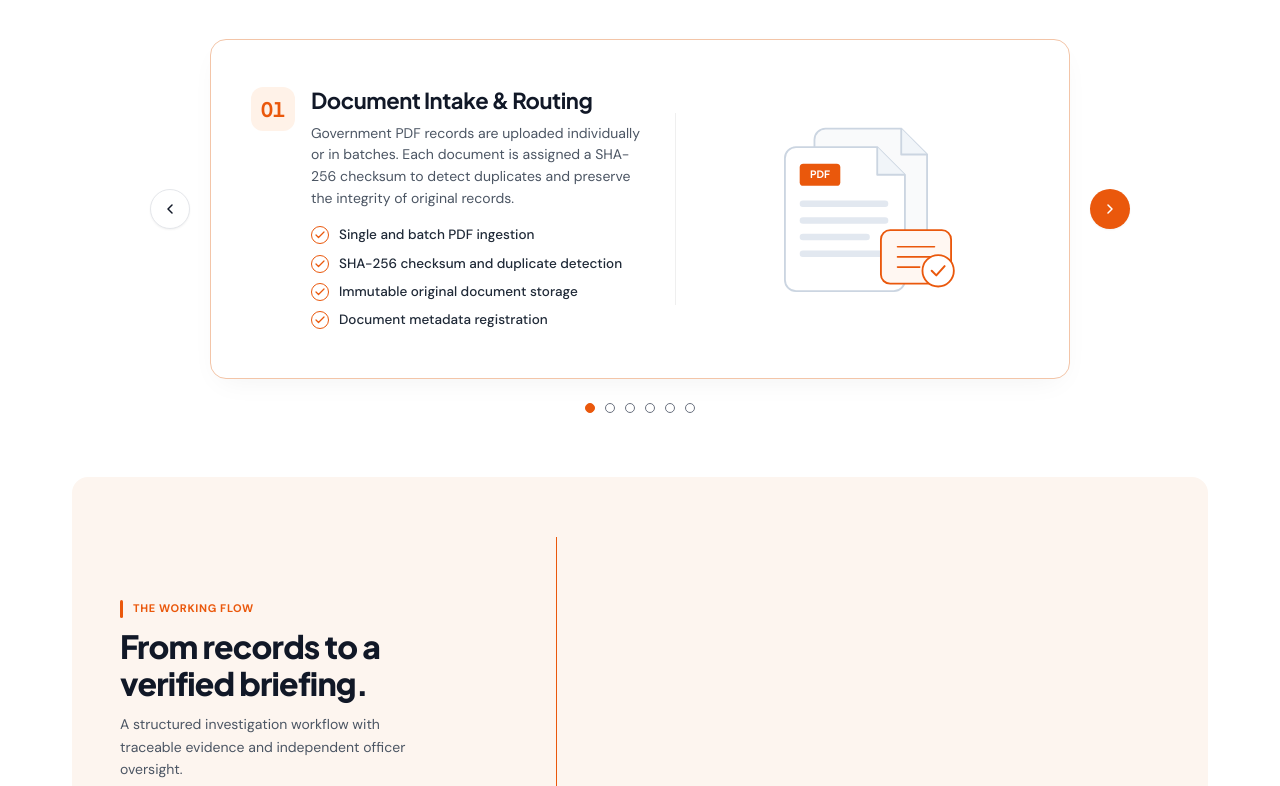
Landing Page & Routing Integration › cycles through all 6 pipeline carousel stages via controls and dots
(page scrolled)
Expected: the heading "Document Intake & Routing" is shown, [311, 86, 592, 114]
Click the button named "Next pipeline stage" at (1110, 209), box [1090, 189, 1130, 229]
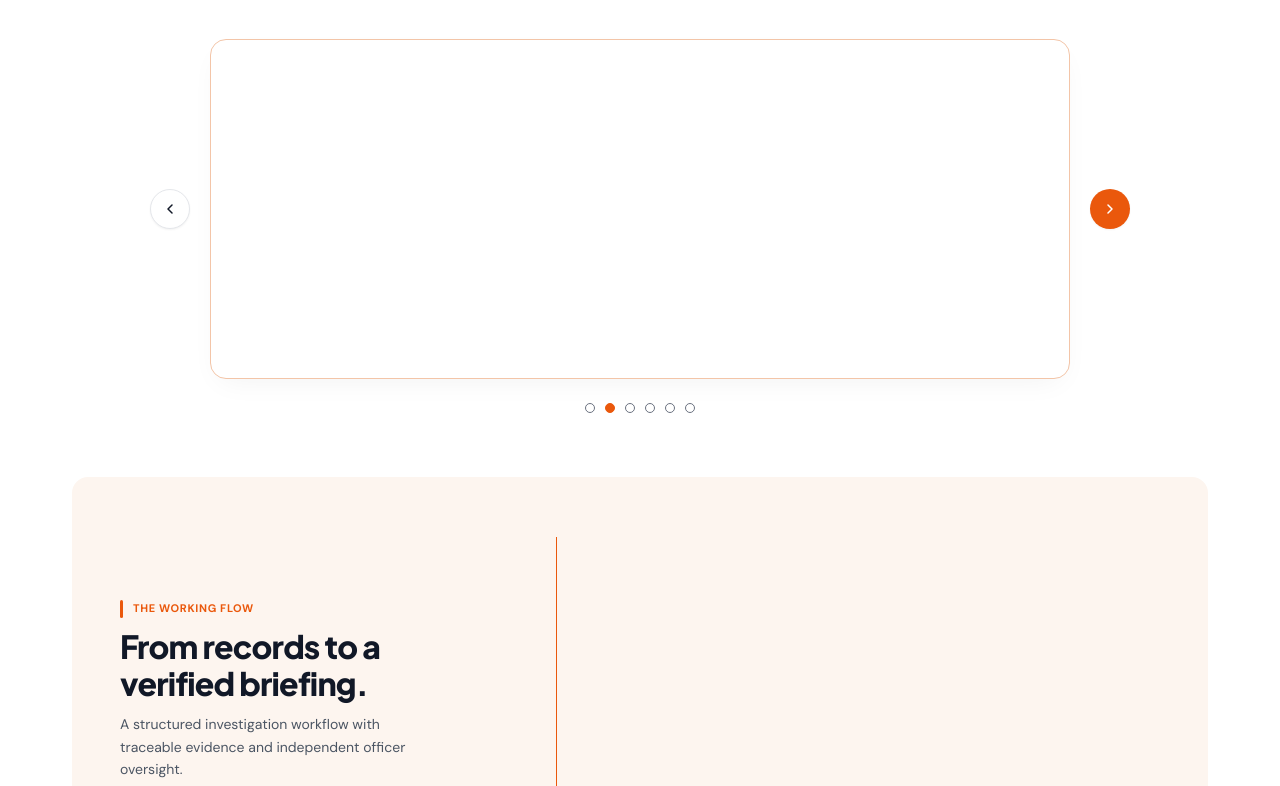
Click the tab named "Go to stage 06" at (690, 408), box [685, 403, 695, 413]
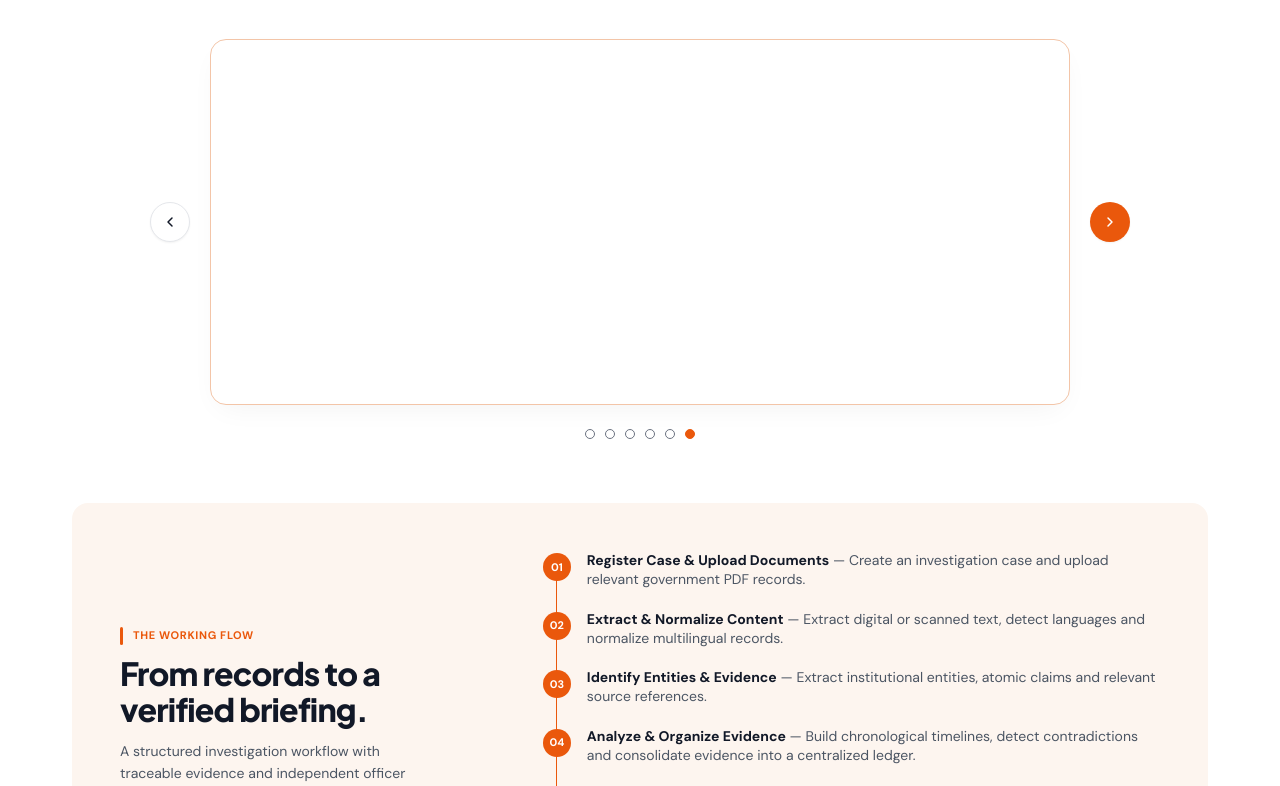
Click the button named "Previous pipeline stage" at (170, 222), box [150, 202, 190, 242]
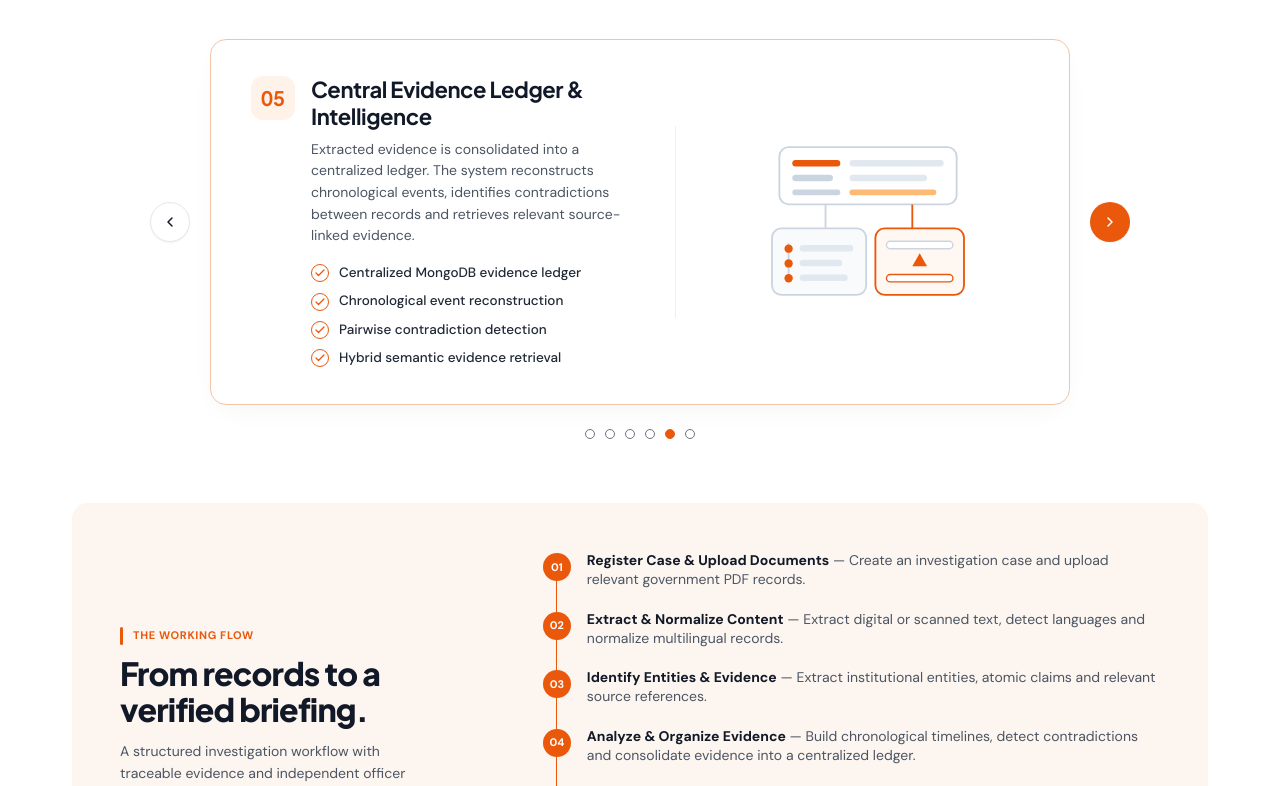
Now the heading "Central Evidence Ledger & Intelligence" is shown, box [311, 75, 584, 130]
